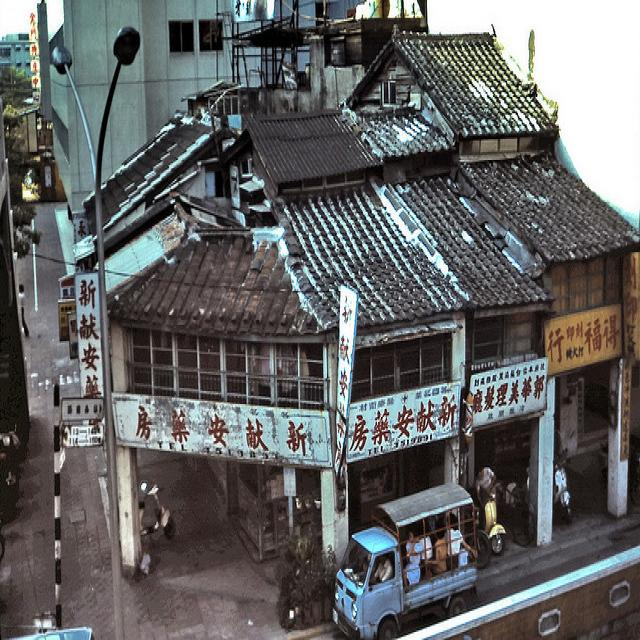motor: (139, 478, 176, 539), (553, 447, 572, 524), (485, 491, 507, 554), (475, 511, 492, 569)
